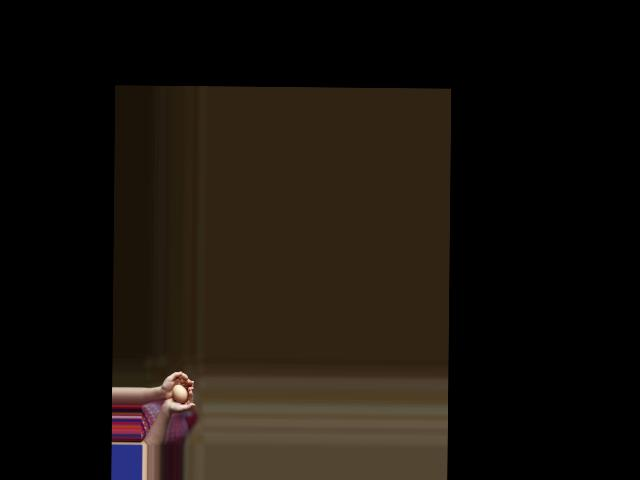egg: (173, 385, 188, 403)
